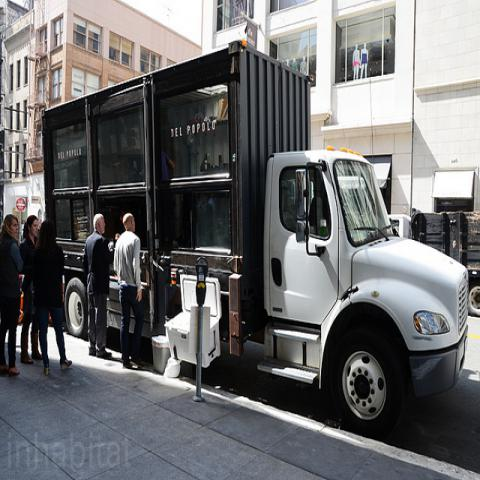truck: (39, 44, 469, 431), (387, 210, 479, 320)
